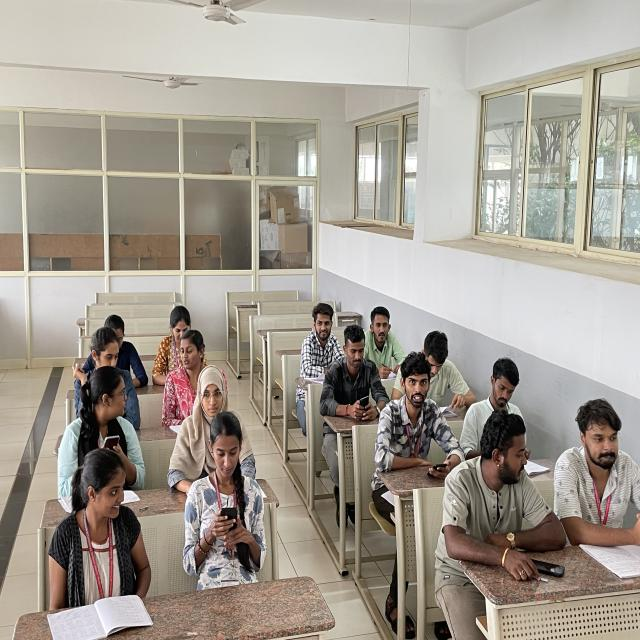Using Phone: (182, 412, 273, 574), (375, 358, 462, 478), (58, 363, 141, 467), (325, 321, 392, 418)
Writing: (360, 304, 406, 380)
